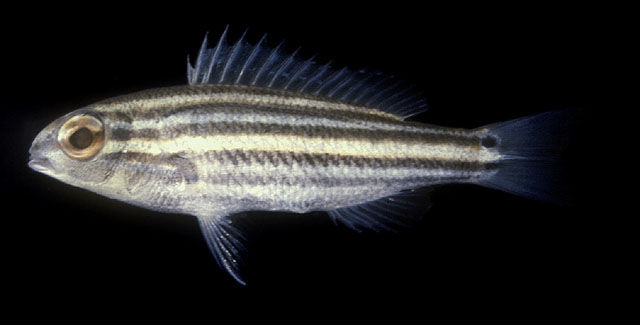fish: (27, 25, 548, 285)
